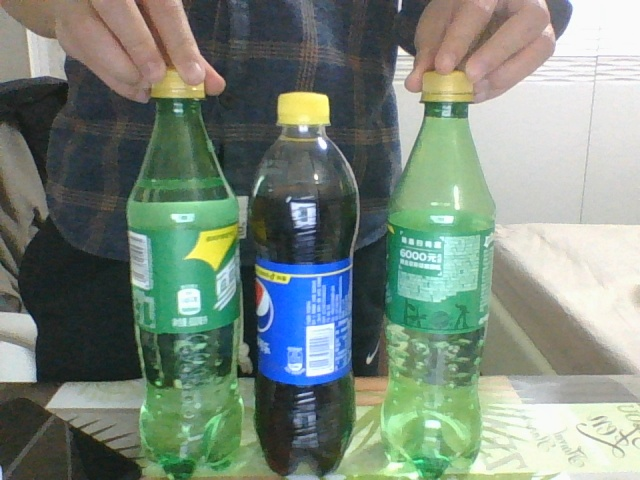Cola: (249, 90, 364, 475)
Sprite: (124, 68, 242, 475), (386, 70, 497, 477)
